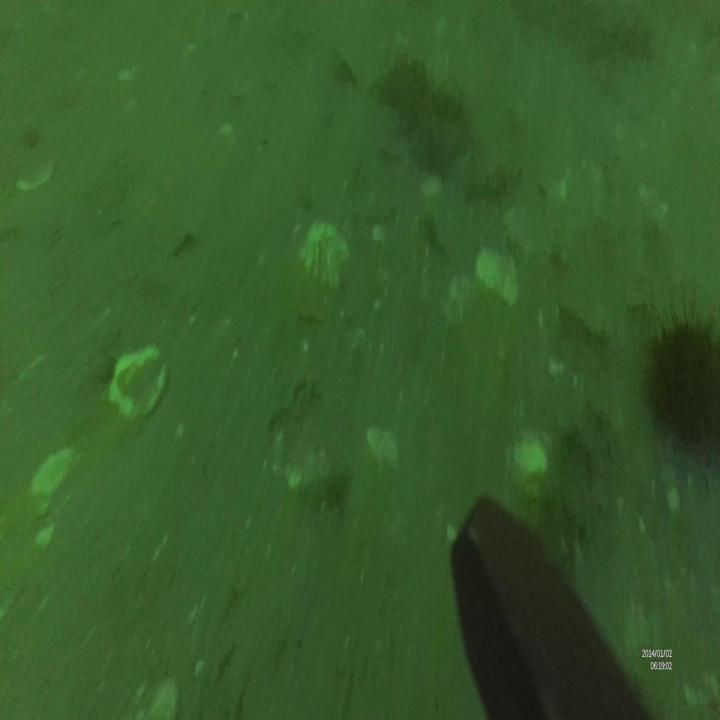echinus: (647, 296, 720, 454)
scallop: (293, 218, 351, 292), (110, 348, 167, 420)
